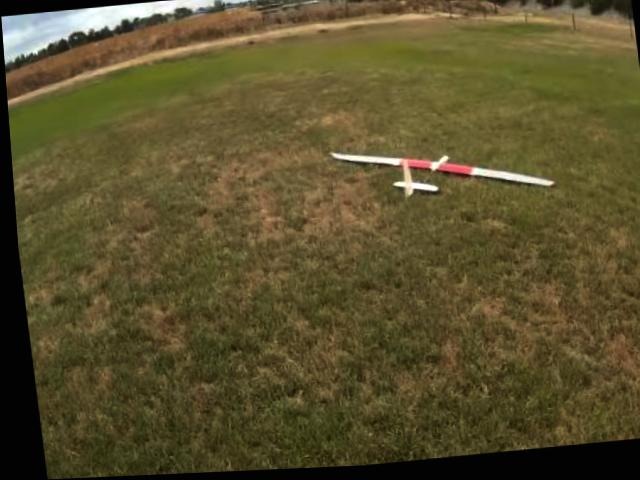uav: (317, 118, 562, 237)
